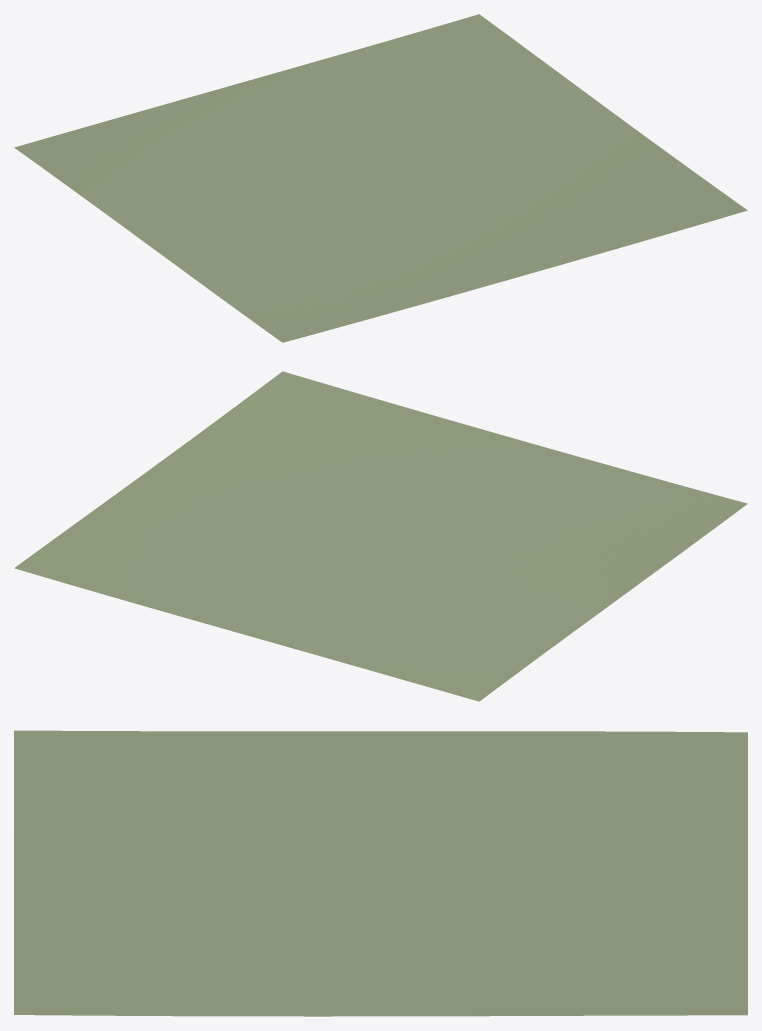
Rendered from expanse-19-14.glb.
3 renders of one model, top to bottom at view 1: azimuth 30°, elevation 25°; view 2: azimuth 150°, elevation 25°; view 3: azimuth 270°, elevation 25°, orthographic. The views are drawn at different scales.
Parts seen in each view (by area): view 1: expanse-19-14; view 2: expanse-19-14; view 3: expanse-19-14.
Boxes of the visible parts, <box> form: expanse-19-14: <box>14,14,747,342</box>; expanse-19-14: <box>14,371,747,701</box>; expanse-19-14: <box>14,730,747,1016</box>.
Size of the model in its own units: 256 by 10.62 by 256.
